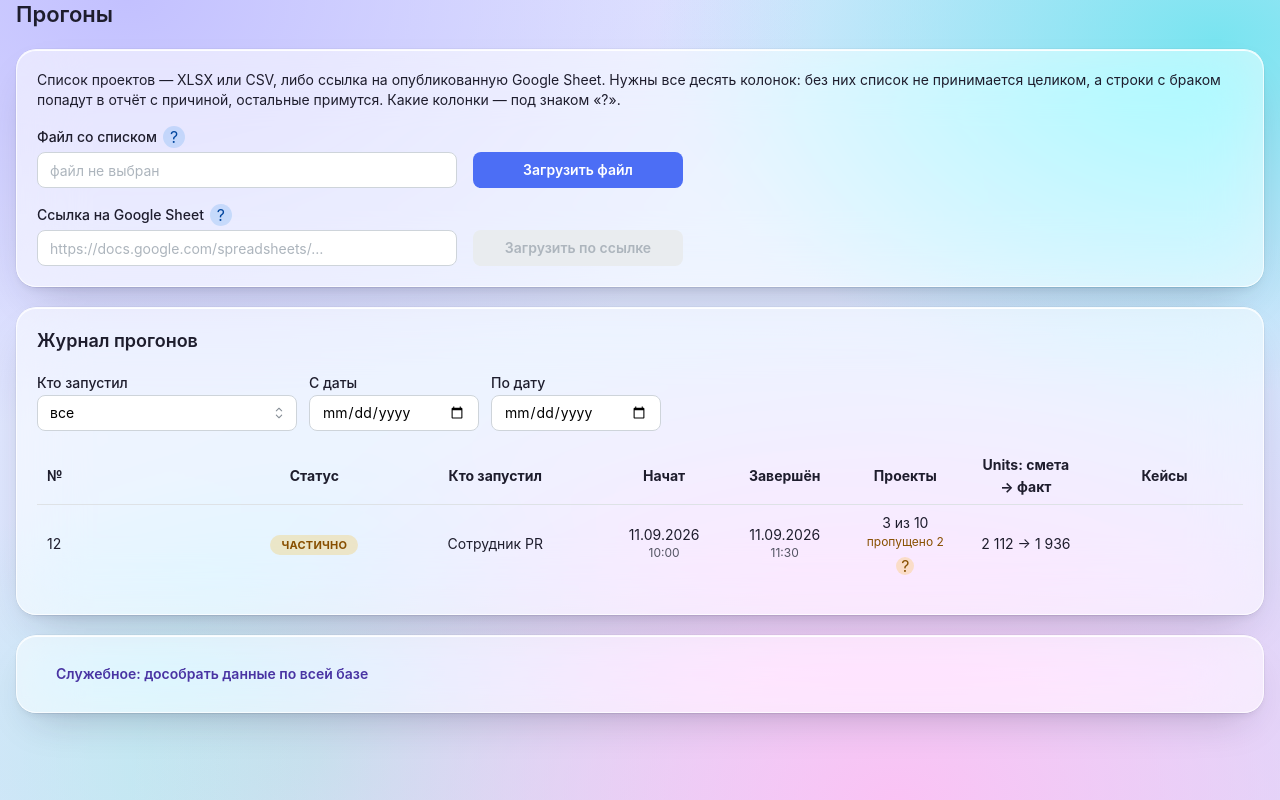
it: раскрытие показывает только проблемы › K7: удалённый проект подписан, живая кампания того же сайта — нет
Step 1. Click the button named "почему пропущены" → (905, 566), box [896,557,914,575]
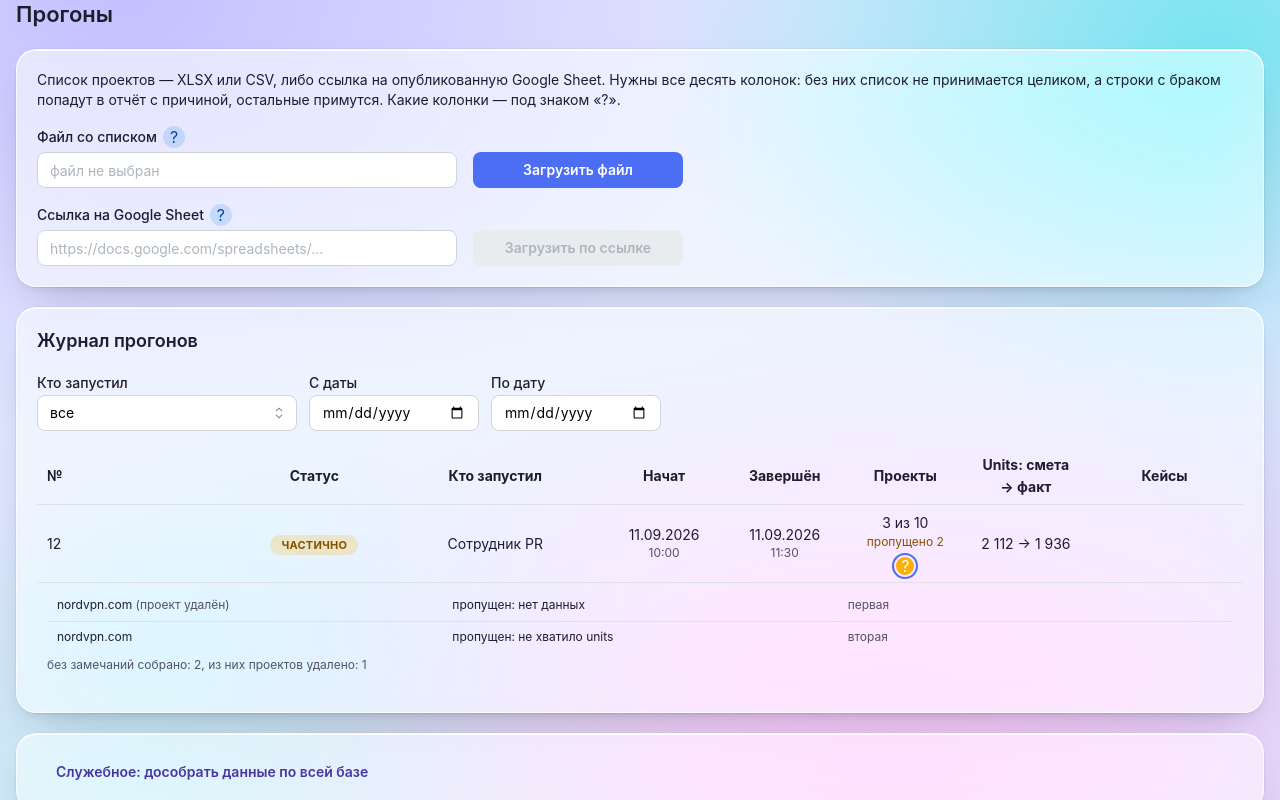
Check: the text "вторая" does not show "(проект удалён)", box [47,621,1233,652]
Check: the text "первая" shows "(проект удалён)", box [136,597,230,612]
Check: the text "без замечаний собрано: 2, из них проектов удалено: 1" is shown, box [47,656,367,672]
